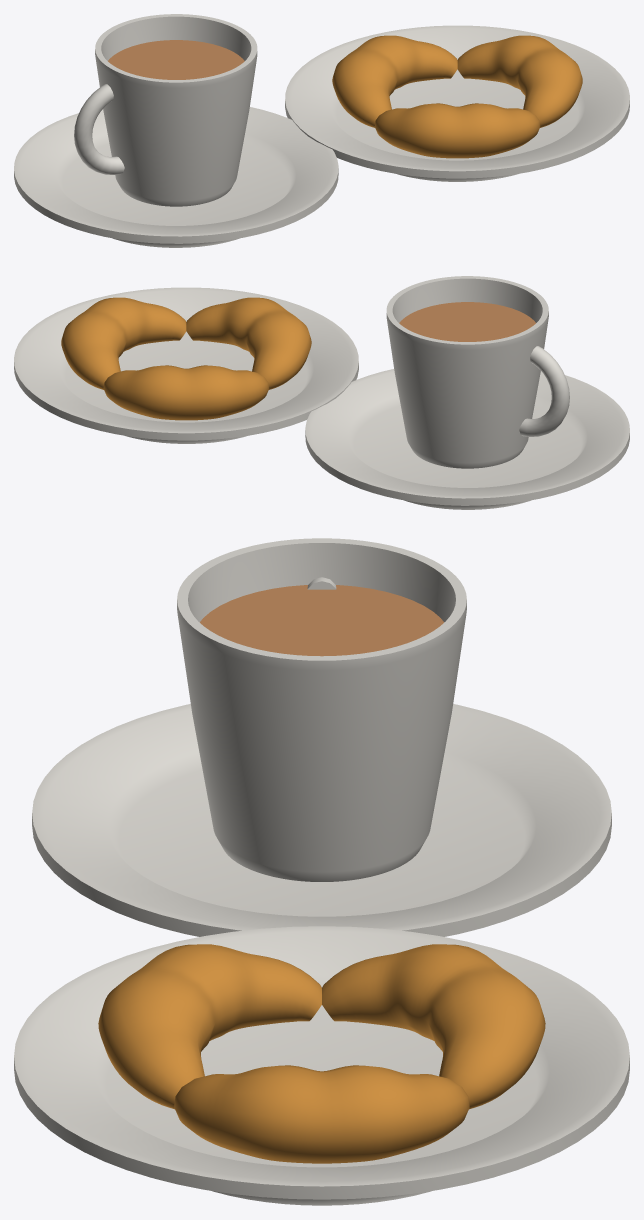
The model's file is cafe_medialunas.glb.
3 views of the same model, one above another, from view 1: azimuth 30°, elevation 25°; view 2: azimuth 150°, elevation 25°; view 3: azimuth 270°, elevation 25° (orthographic). The views are drawn at different scales.
Parts seen in each view (by area): view 1: plato; view 2: plato; view 3: plato.
Boxes of the visible parts, bbox=[...] form: plato: bbox=[14, 14, 629, 247]; plato: bbox=[14, 276, 629, 509]; plato: bbox=[14, 538, 629, 1205].
Bounding box in the file's own units: 0.325 × 0.085 × 0.17.
